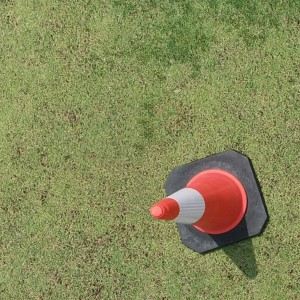traffic cone: (151, 149, 268, 254)
